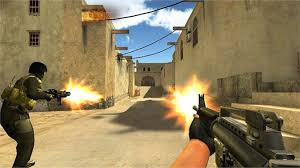gun: (191, 91, 298, 166), (43, 88, 71, 106)
